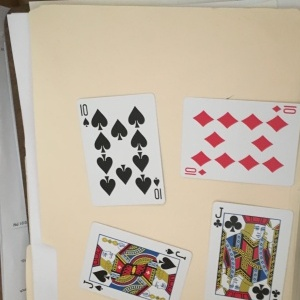card: (71, 93, 166, 207)
